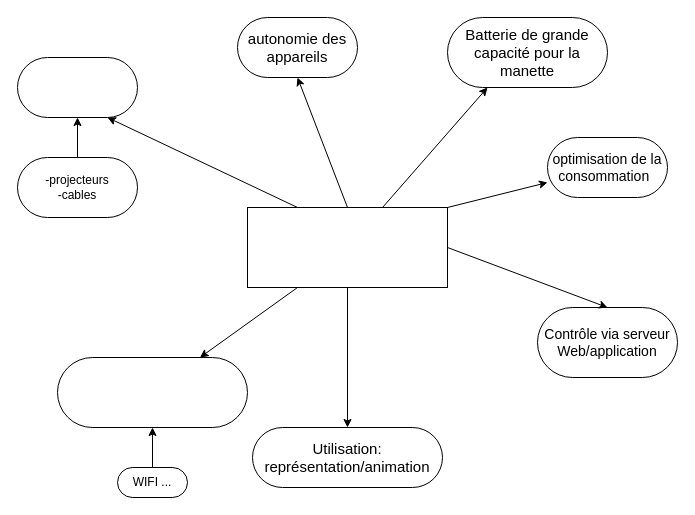
Some shapes in this 695 by 515 pixel diagram are drawn without their labels. Each missing label, with the centre of its shape:
"Connectique à distance : 100m de porter sans obstacles" goes at (x=152, y=392).
"Eclairage DMX Cahier des charges" goes at (x=347, y=247).
"Matériel utilisé" goes at (x=77, y=87).
